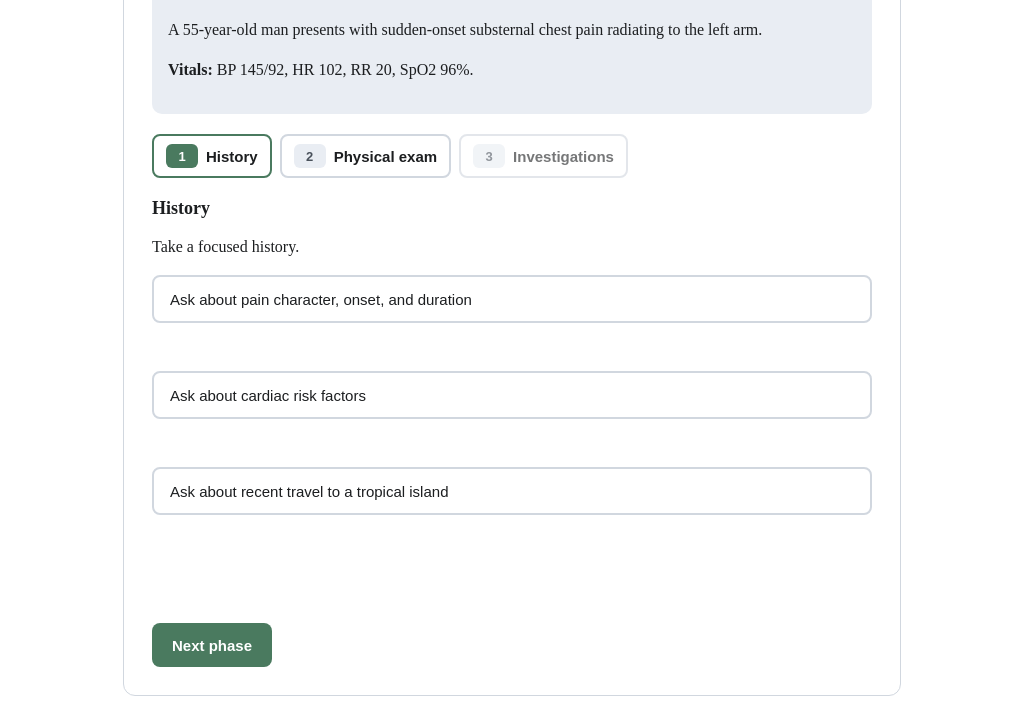
OSCE › allows stepper navigation back to any visited phase when allowSkipPhase is off
The width and height of the screenshot is (1024, 725).
(page scrolled)
# Walk forward to phase 3 so phases 1 and 2 are both visited.
Click the button "Next phase" at [212, 645], box x1=152 y1=623 x2=272 y2=667
(page scrolled)
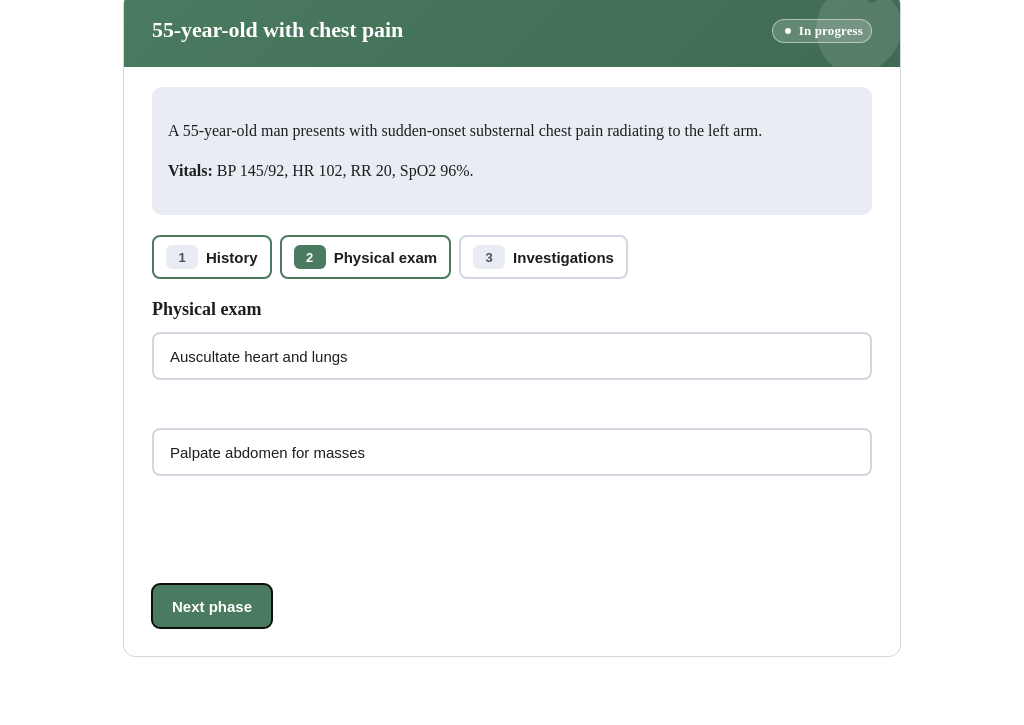
Click the button "Next phase" at [212, 606], box x1=152 y1=584 x2=272 y2=628
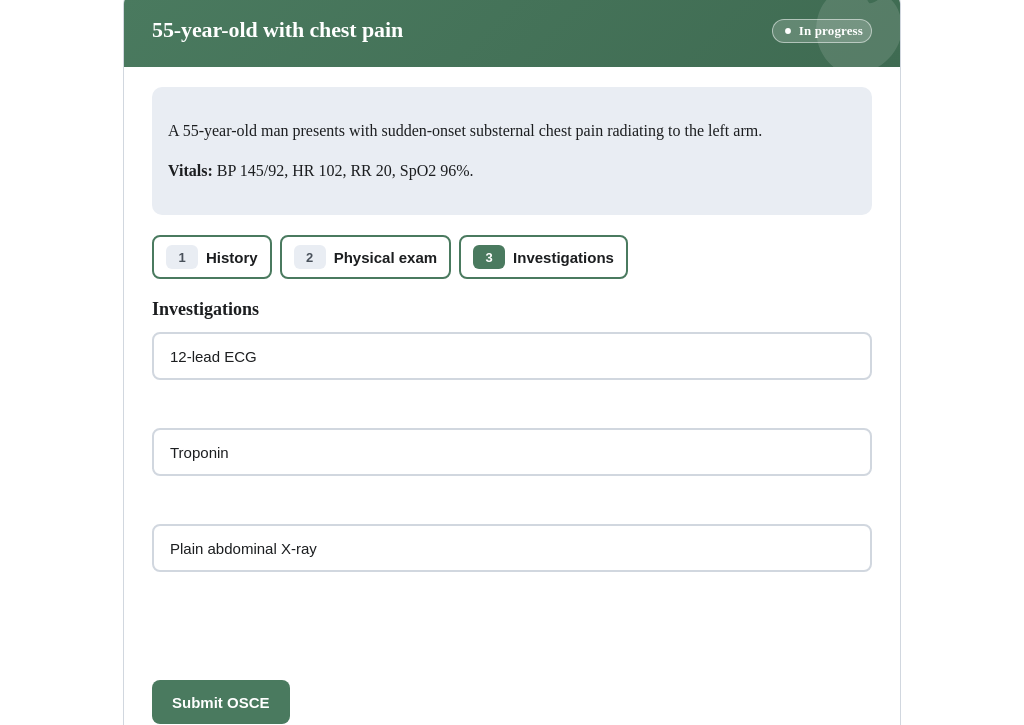
Expected: the heading "Investigations" is shown, x1=152 y1=299 x2=259 y2=319
Click the button "1 History" at [212, 257], box x1=152 y1=235 x2=272 y2=279
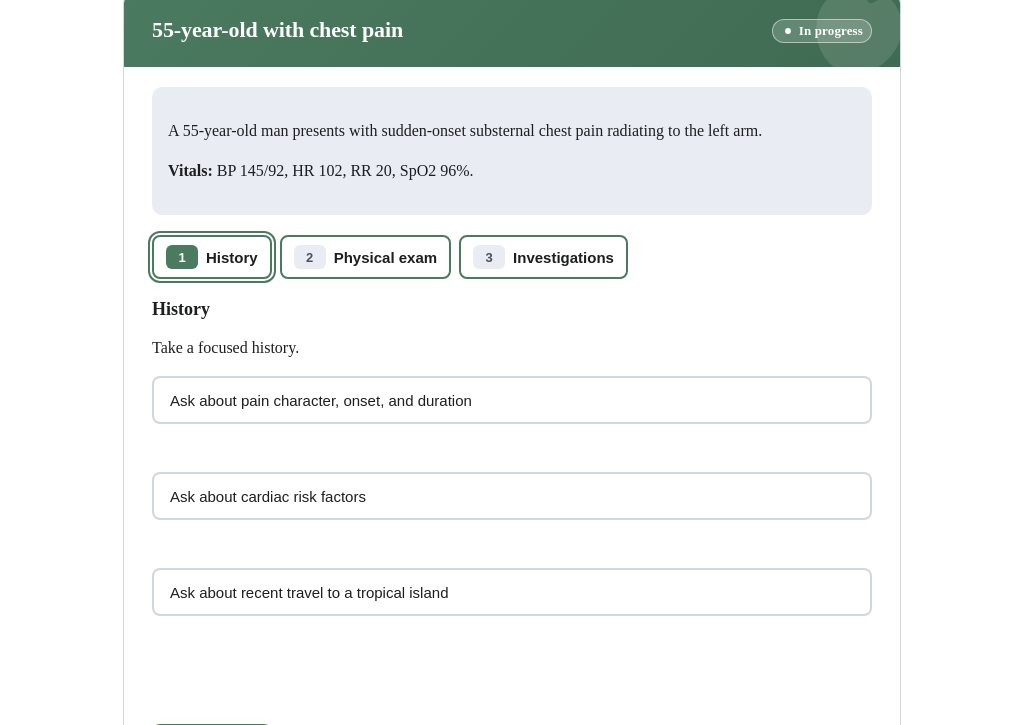
Expected: the heading "History" is shown, x1=152 y1=299 x2=210 y2=319
